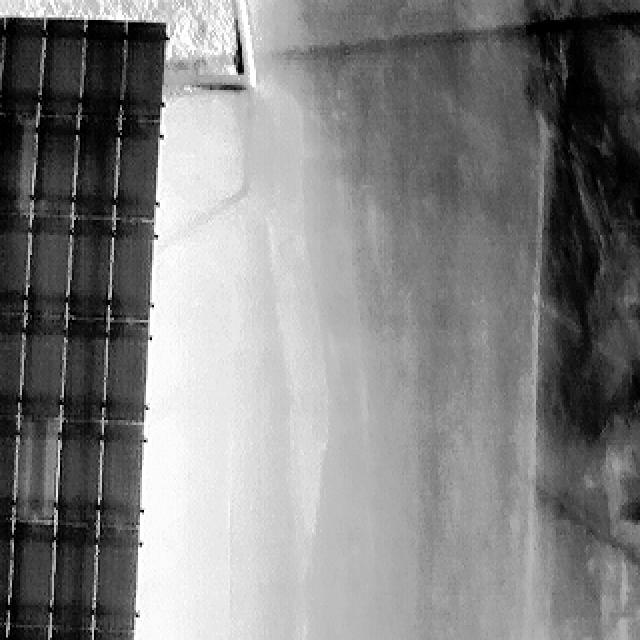PV-modules: (21, 317, 66, 423), (96, 525, 140, 633), (9, 522, 52, 632), (56, 323, 101, 428), (56, 420, 101, 524), (49, 524, 93, 630), (63, 219, 108, 322), (74, 118, 119, 220), (102, 424, 146, 528), (108, 322, 152, 426), (28, 218, 72, 321), (116, 122, 160, 224), (112, 219, 155, 320), (124, 23, 167, 123), (13, 420, 56, 520), (41, 21, 84, 120), (36, 117, 78, 218), (0, 20, 42, 120), (81, 22, 122, 122), (0, 115, 34, 215), (0, 210, 28, 314), (0, 314, 22, 425), (0, 0, 49, 18), (0, 622, 46, 640), (44, 630, 90, 640), (92, 632, 136, 640)
